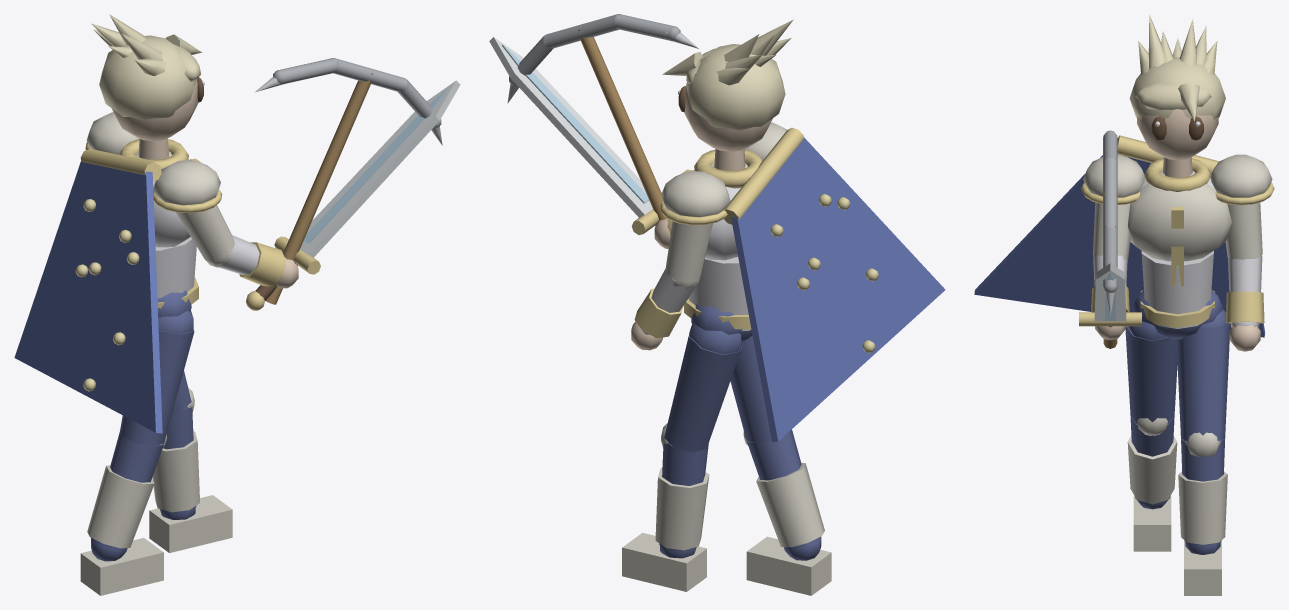
The model's file is hero_0_iskra_star.glb.
3 renders of one model, left to right at view 1: azimuth 30°, elevation 25°; view 2: azimuth 150°, elevation 25°; view 3: azimuth 270°, elevation 25°, orthographic. The views are drawn at different scales.
Visible parts, largest first — view 1: Cape, LegR, Torso, Head, LegL, Weapon, Pickaxe, ArmR; view 2: Cape, LegL, LegR, Torso, Head, Weapon, Pickaxe, ArmL; view 3: Torso, LegL, Cape, LegR, Head, ArmL, Pickaxe, ArmR, Weapon.
Boxes of the visible parts, x1,y1,x2,y2 form: Cape: [14, 148, 162, 433]; LegR: [80, 310, 194, 595]; Torso: [85, 112, 222, 318]; Head: [91, 14, 204, 141]; LegL: [149, 371, 232, 552]; Weapon: [246, 80, 460, 310]; Pickaxe: [255, 58, 442, 304]; ArmR: [176, 205, 298, 288]; Cape: [724, 127, 945, 441]; LegL: [622, 324, 743, 591]; LegR: [730, 335, 831, 595]; Torso: [660, 122, 787, 341]; Head: [662, 19, 793, 151]; Weapon: [489, 37, 659, 234]; Pickaxe: [507, 14, 698, 220]; ArmL: [631, 221, 712, 350]; Torso: [1081, 154, 1274, 339]; LegL: [1176, 310, 1230, 595]; Cape: [974, 135, 1265, 337]; LegR: [1125, 310, 1177, 551]; Head: [1129, 15, 1225, 160]; ArmL: [1225, 202, 1264, 351]; Pickaxe: [1103, 130, 1117, 348]; ArmR: [1091, 202, 1130, 340]; Weapon: [1079, 263, 1141, 327].
Size of the model in its own units: 1.96 by 2.74 by 1.43.
